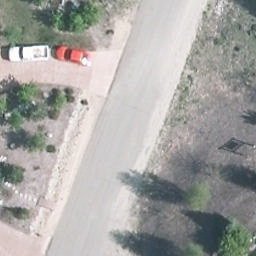car: (54, 46, 92, 68)
pickup: (2, 39, 49, 62)
